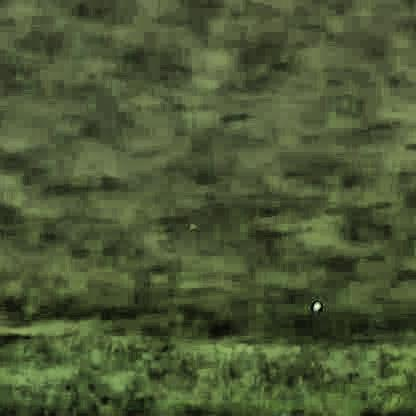golfball: (308, 301, 319, 311)
